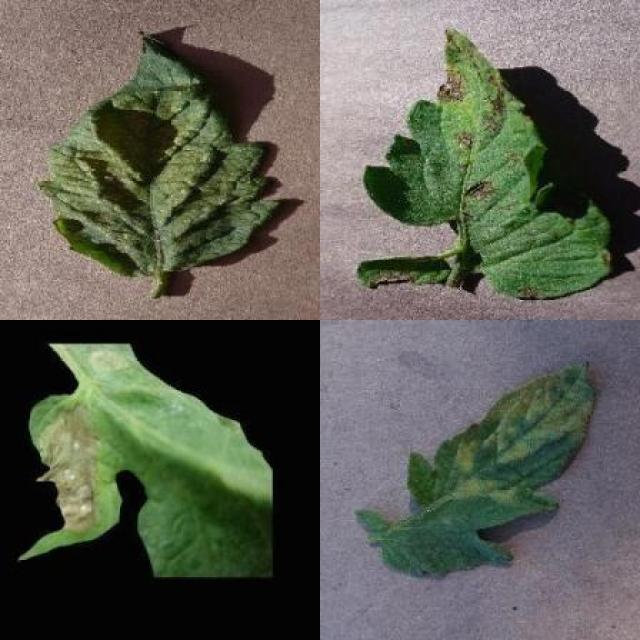Early Blight: (364, 27, 610, 304)
Late Blight: (18, 344, 273, 579)
Leaf Mold: (359, 356, 594, 578)
Spider Mites: (35, 30, 278, 280)
